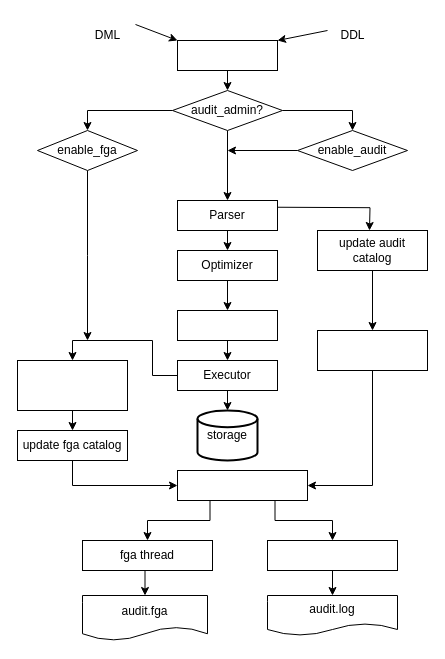
Some shapes in this 445 by 659 pixel diagram are drawn without their labels. Here are the shapes that lost their labels. From the top down, the box of each, then its label:
(176, 40, 278, 70): CN Postgres
(176, 310, 278, 340): Planner
(316, 330, 428, 370): hit audit policy & allocate memory
(16, 360, 128, 410): hit fga policy & allocate memory
(176, 470, 308, 500): audit logger process
(266, 540, 398, 570): audit thread
